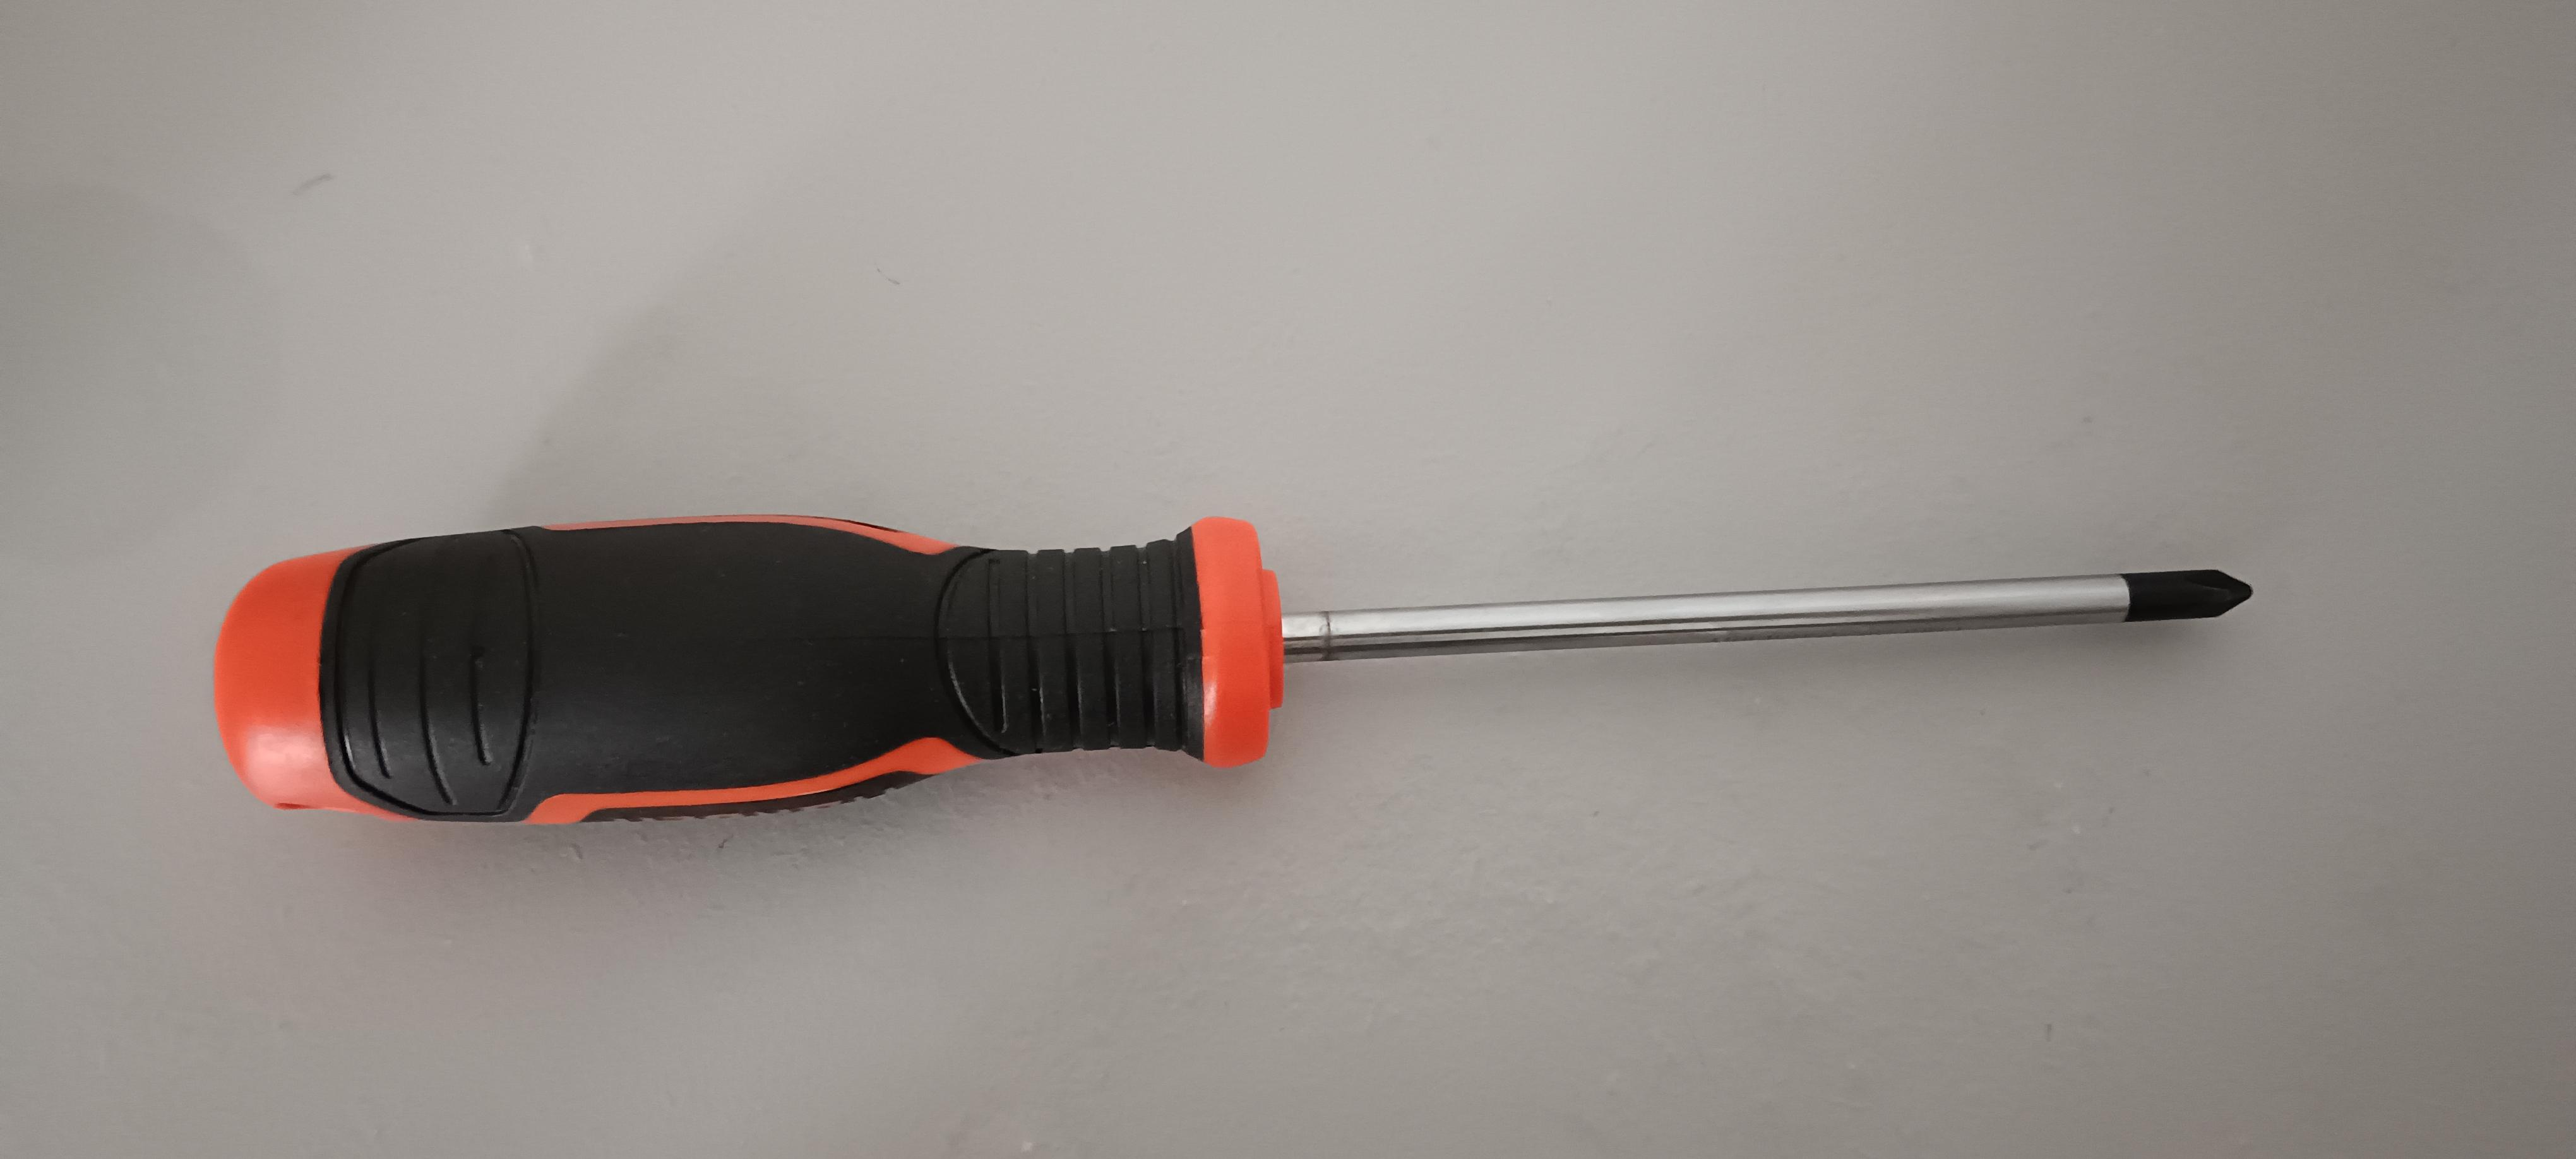Screwdriver: (186, 479, 2298, 872)
